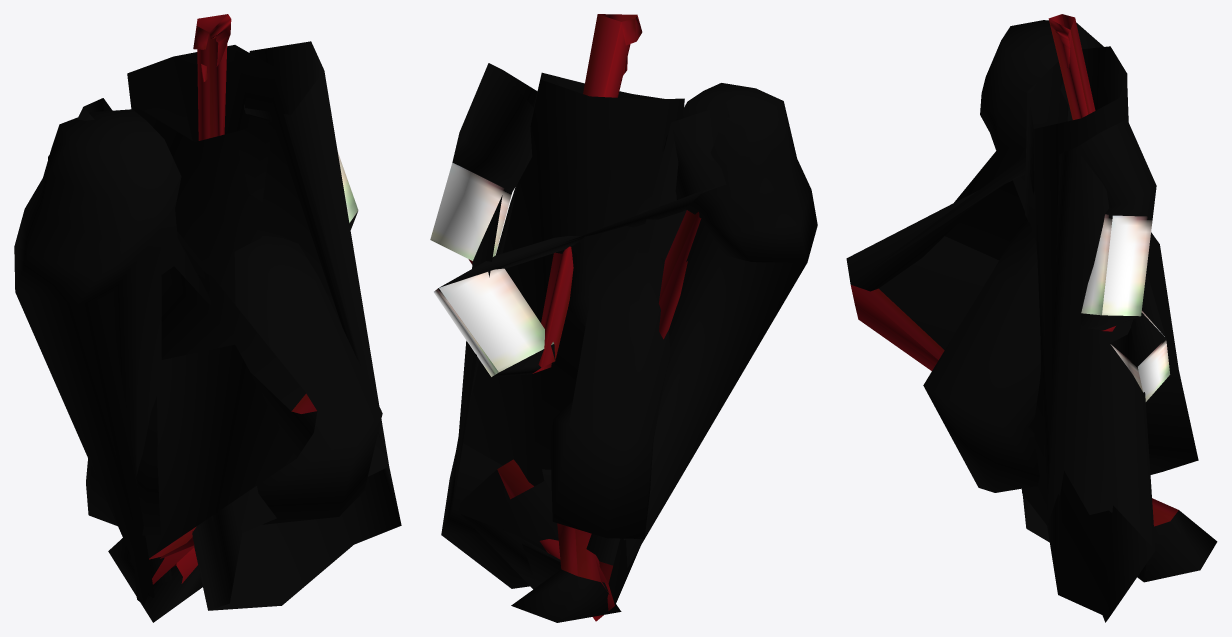
3 views of the same model, side by side, from view 1: azimuth 30°, elevation 25°; view 2: azimuth 150°, elevation 25°; view 3: azimuth 270°, elevation 25° (orthographic). The views are drawn at different scales.
Parts seen in each view (by area): view 1: T1L1M004_19; view 2: T1L1M004_19; view 3: T1L1M004_19.
Part boxes in pixels (x1,y1,x2,y2): T1L1M004_19: (14,14,401,622); T1L1M004_19: (430,14,817,622); T1L1M004_19: (846,14,1217,622).
Bounding box in the file's own units: 0.7397 × 1.14 × 0.6847.
